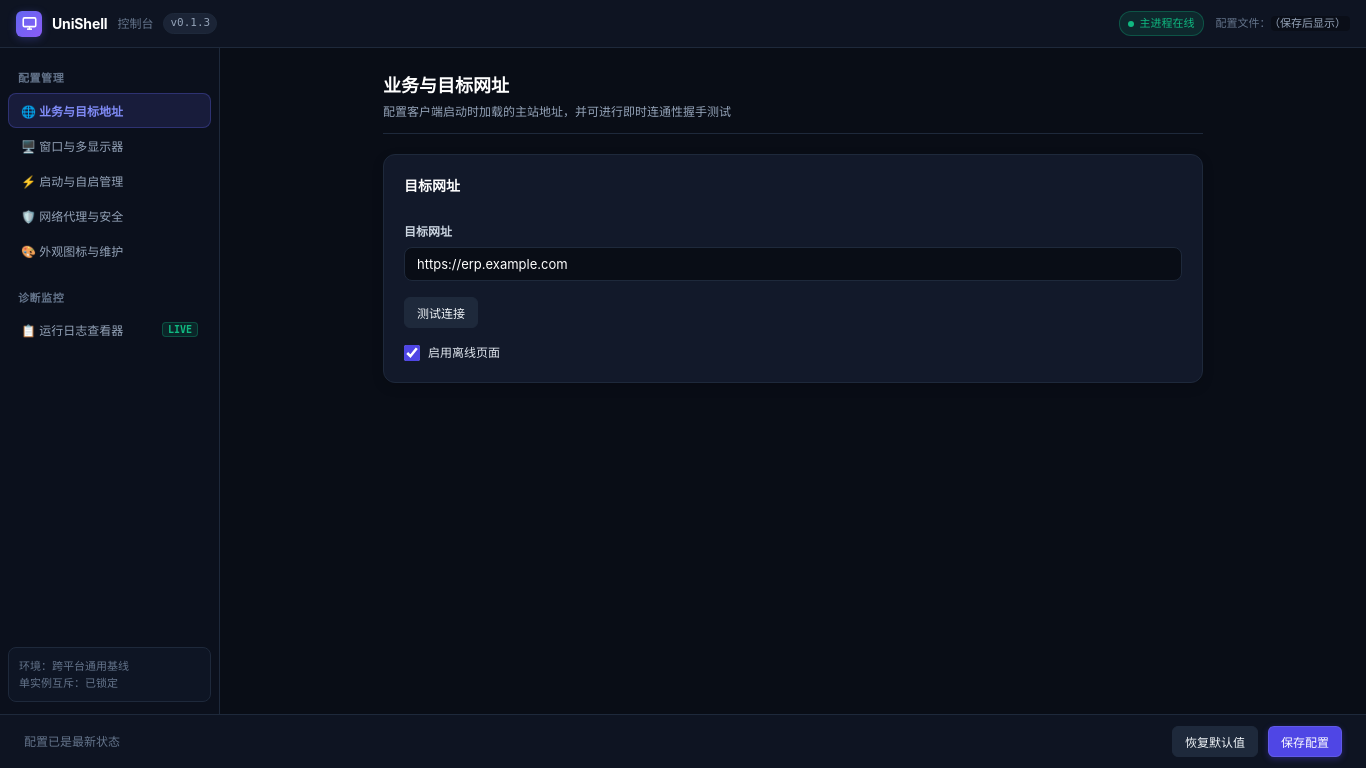
Scenario: 连通性测试 › 连接失败时展示失败原因
Click the button "测试连接". click: {"x": 441, "y": 312}
box: [404,297,478,328]
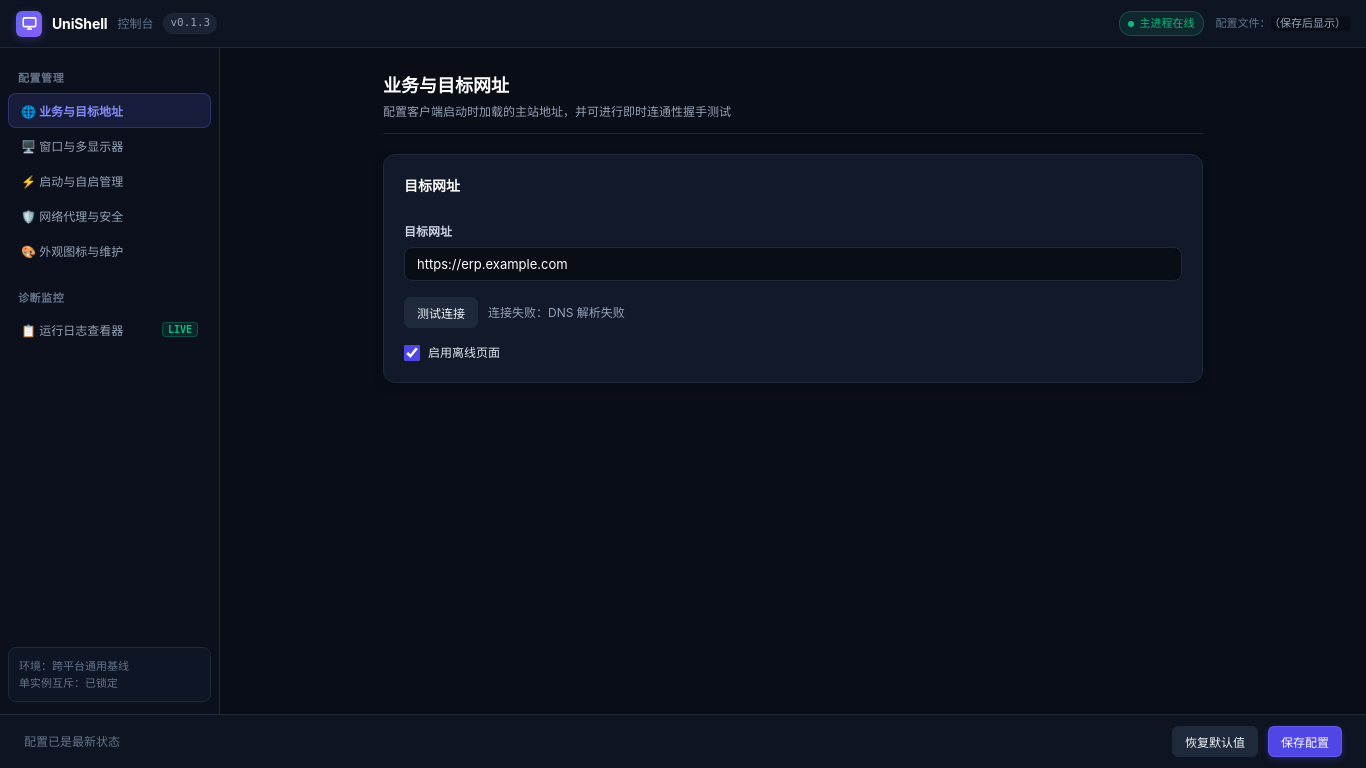
expect the text "连接失败" is shown: met, box [488,304,625,320]
expect the text "DNS 解析失败" is shown: met, box [488,304,625,320]
